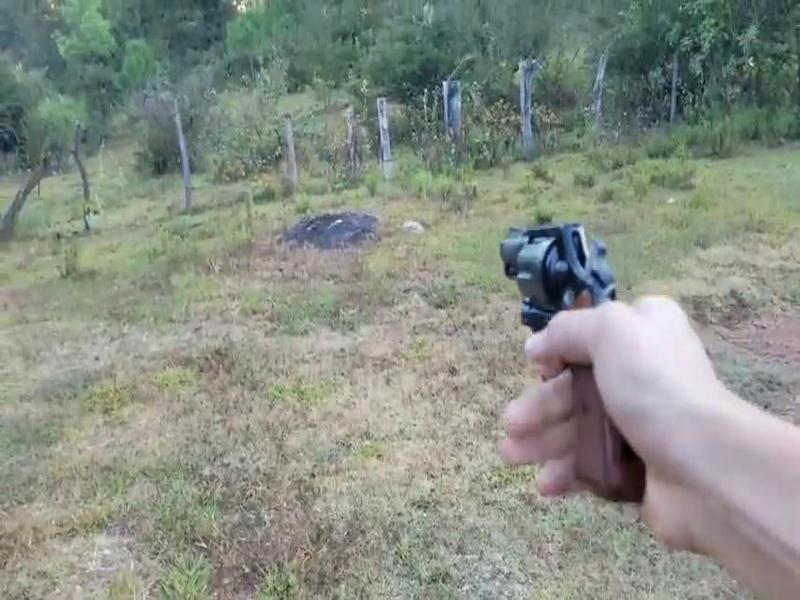Revolver: (495, 210, 667, 497)
